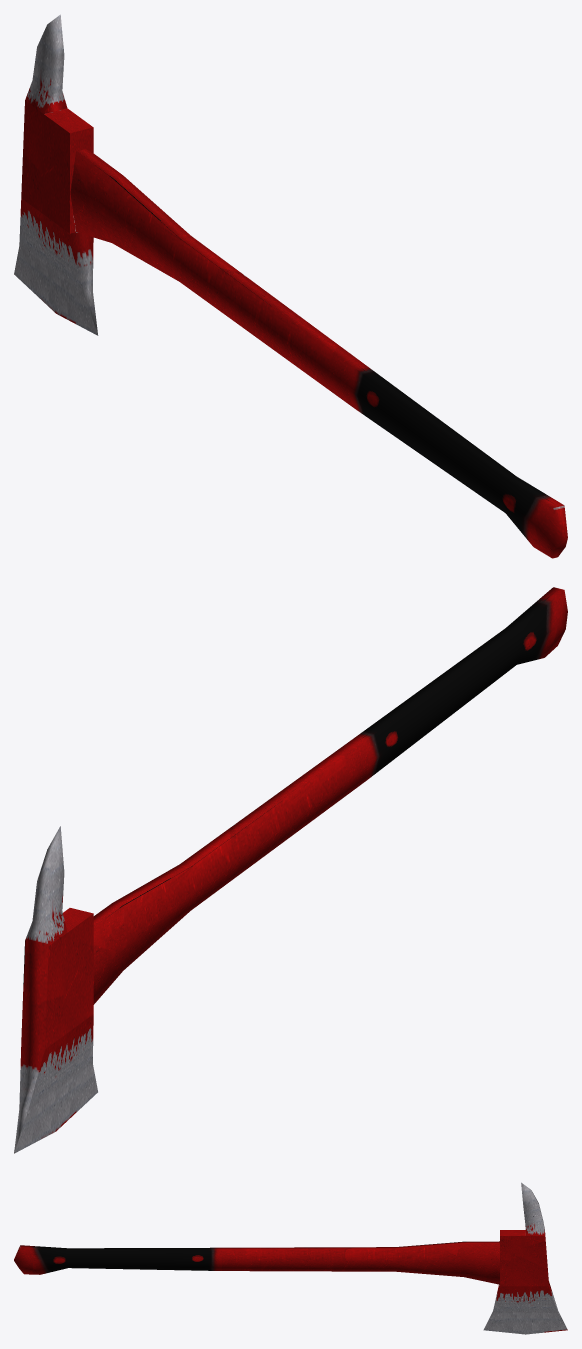
Rendered from Topor_V_0_1.fbx.
3 renders of one model, top to bottom at view 1: azimuth 30°, elevation 25°; view 2: azimuth 150°, elevation 25°; view 3: azimuth 270°, elevation 25°, orthographic. The views are drawn at different scales.
Visible parts, largest first — view 1: Topor; view 2: Topor; view 3: Topor.
Part boxes in pixels (bbox=[...]): Topor: bbox=[14, 14, 567, 558]; Topor: bbox=[14, 587, 567, 1153]; Topor: bbox=[14, 1182, 567, 1334].
Size of the model in its own units: 20.28 by 247 by 815.
Materials: 1 (1 with a texture image).
